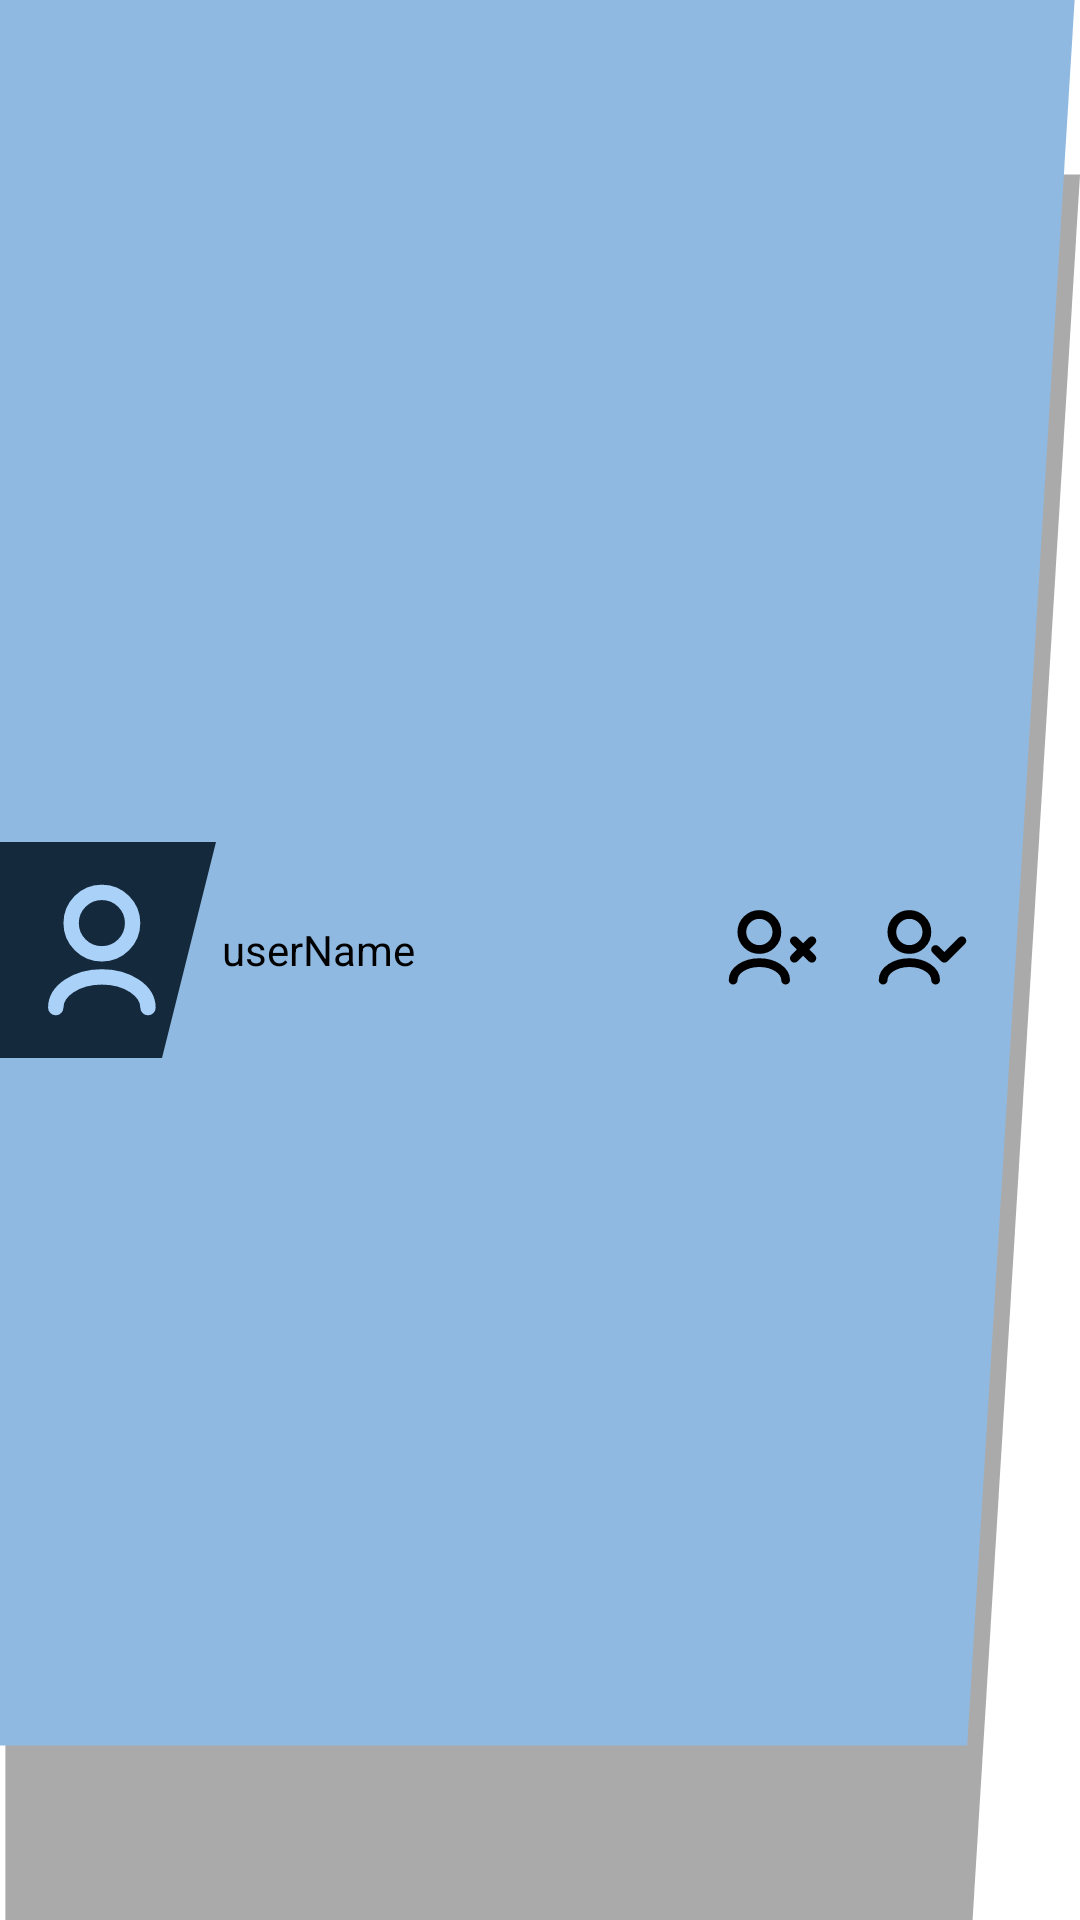

Icons on this 1080px x 1920px Android screen, each with the point to tap as [x,y]:
user accept: [922,947]
user decline: [772,947]
